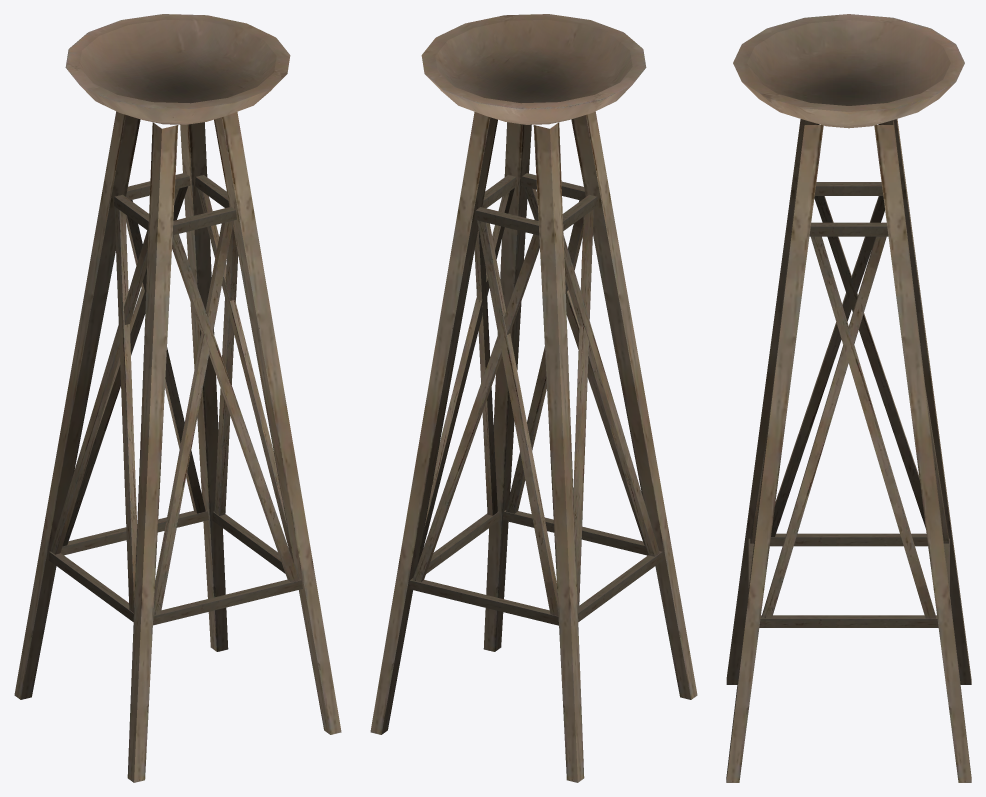
The picture shows the model from 3 angles, left to right: view 1: azimuth 30°, elevation 25°; view 2: azimuth 150°, elevation 25°; view 3: azimuth 270°, elevation 25°; orthographic projection. The views are drawn at different scales.
Visible parts, largest first — view 1: body0_model0_lod0_mesh0; view 2: body0_model0_lod0_mesh0; view 3: body0_model0_lod0_mesh0.
Part boxes in pixels (box(x1,y1,x2,y2)): body0_model0_lod0_mesh0: box(14, 14, 341, 782); body0_model0_lod0_mesh0: box(370, 14, 697, 782); body0_model0_lod0_mesh0: box(726, 14, 971, 782).
Size of the model in its own units: 31.71 by 95.28 by 31.69.
1 material, 1 textured.
